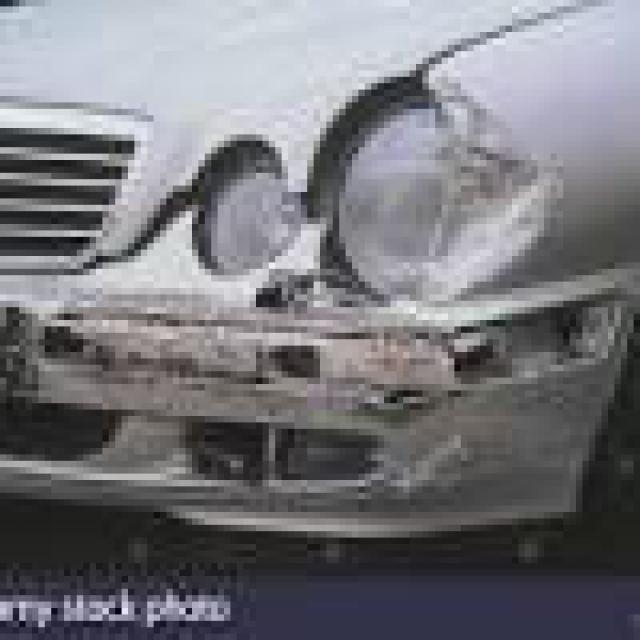Headlight-Damage: (90, 122, 551, 314)
front-bumper-dent: (6, 295, 608, 506)
